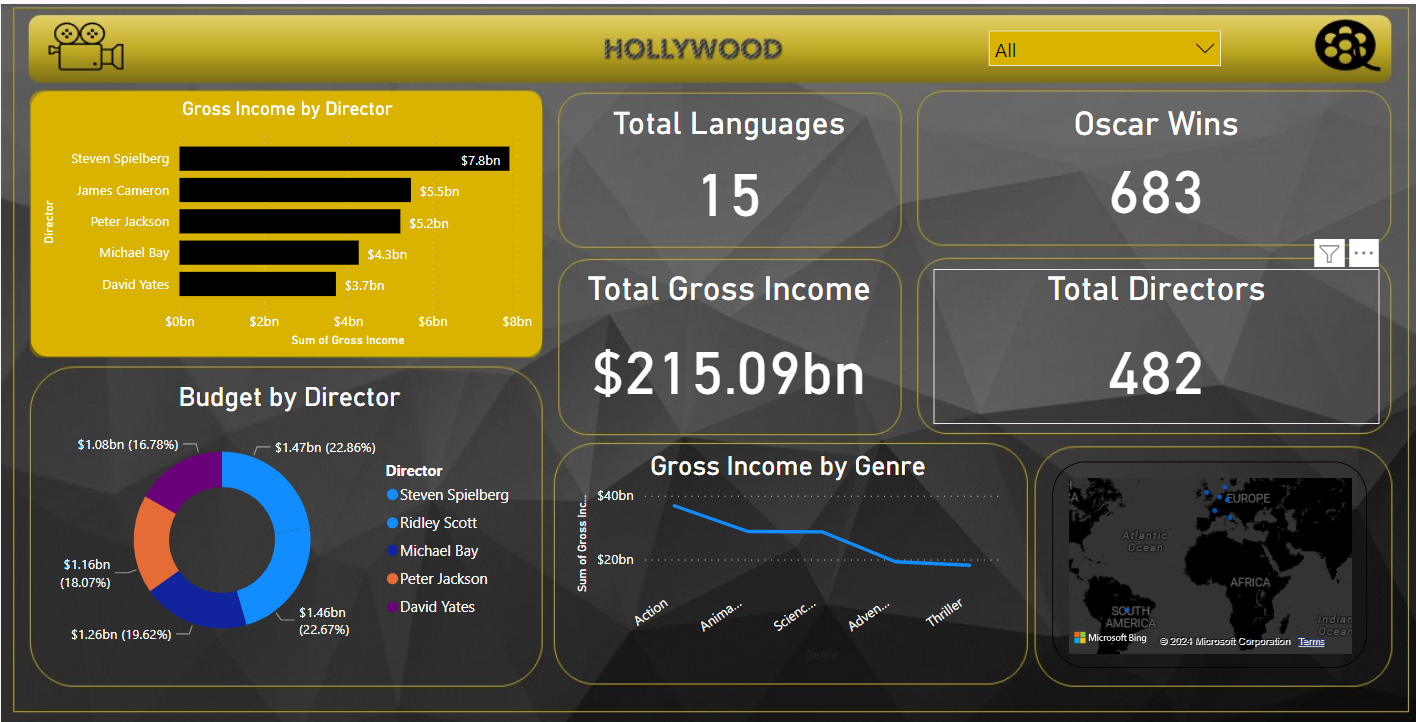

This screenshot's page, from the dashboard's own definition file:
{"tool":"powerbi","page":{"name":"Page 1","canvas":[1280,720],"ordinal":0},"visuals":[{"type":"barChart","title":"Gross Income by Director","fields":{"Category":["Films.Director"],"Y":["Films.Gross Income"]},"box":[26.7,79,461.3,239.4],"z":0},{"type":"card","title":"Oscar Wins","fields":{"Values":["Films.Oscar Wins"]},"box":[842.1,90.5,402.3,110],"z":1000},{"type":"card","title":"Total Languages","fields":{"Values":["Films.Language"]},"box":[515,90.5,285.3,118.3],"z":2000},{"type":"card","title":"Total Gross Income","fields":{"Values":["Films.Gross Income"]},"box":[514.7,239.4,285.8,139.4],"z":3000},{"type":"card","title":"Total Directors","fields":{"Values":["Films.Director"]},"box":[842.1,239.4,402.3,139.2],"z":4000},{"type":"lineChart","title":" Gross Income by Genre","fields":{"Y":["Films.Gross Income"],"Category":["Films.Genre"]},"box":[514.7,403.2,391.6,196.4],"z":5000},{"type":"donutChart","title":" Budget by Director","fields":{"Y":["Films.Budget"],"Category":["Films.Director"]},"box":[47,341.3,425.7,259.3],"z":6000},{"type":"map","fields":{"Category":["Films.Country"]},"box":[949.3,413.4,284,186.5],"z":7000},{"type":"slicer","fields":{"Values":["Films.Genre"]},"box":[880.8,13.9,230.1,48.8],"z":8000}]}

Visuals, with their boxes on the page's 1280x720 design canvas (x1, y1, x2, y2). These are canvas units, not pixel positions in the 1416x722 screenshot, which may show the page scaled, cropped or inside an application window:
"Gross Income by Director" barChart: 27,79,488,318
"Oscar Wins" card: 842,90,1244,200
"Total Languages" card: 515,90,800,209
"Total Gross Income" card: 515,239,800,379
"Total Directors" card: 842,239,1244,379
" Gross Income by Genre" lineChart: 515,403,906,600
" Budget by Director" donutChart: 47,341,473,601
map - Films.Country: 949,413,1233,600
slicer - Films.Genre: 881,14,1111,63
